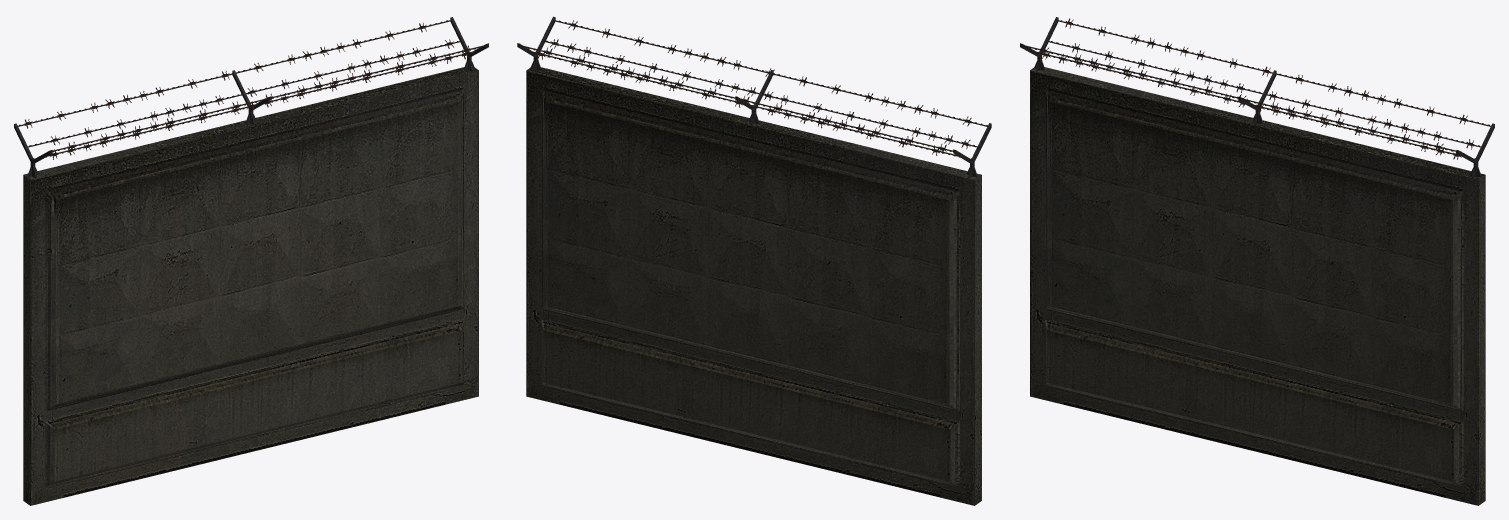
File: concrete_fence_hr_2.glb
3 views of the same model, side by side, from view 1: azimuth 30°, elevation 25°; view 2: azimuth 150°, elevation 25°; view 3: azimuth 330°, elevation 25° (orthographic).
Visible parts, largest first — view 1: concrete_fence_hr_2; view 2: concrete_fence_hr_2; view 3: concrete_fence_hr_2.
Boxes of the visible parts, <box> form: concrete_fence_hr_2: <box>14,17,488,505</box>; concrete_fence_hr_2: <box>517,16,991,505</box>; concrete_fence_hr_2: <box>1020,17,1494,505</box>.
Size of the model in its own units: 3.6 by 2.82 by 0.5551.
Materials: 3 (3 with a texture image).
